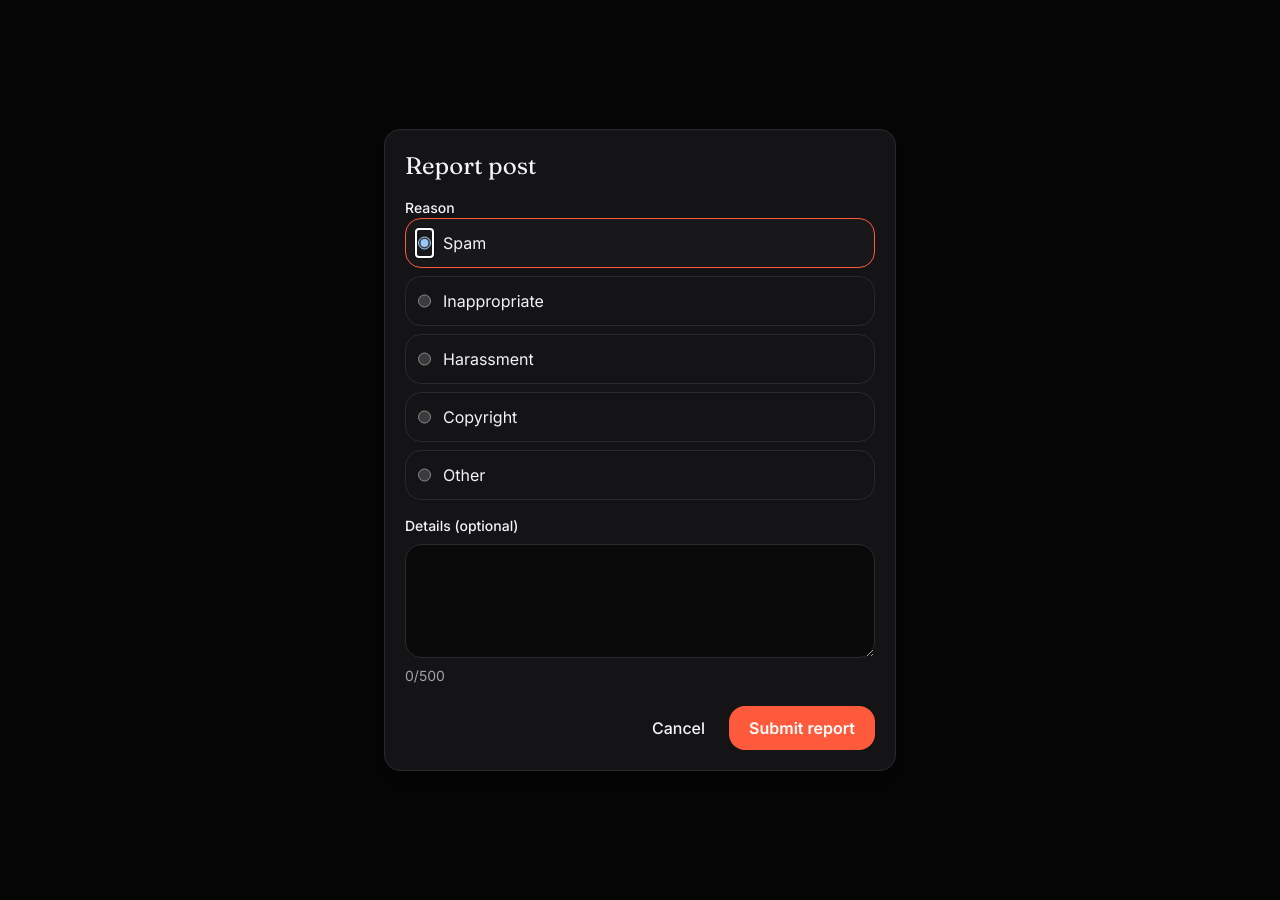
Test: ReportSheet › shows duplicate state
Click the button "Submit report": click(802, 728) [729,706,875,750]
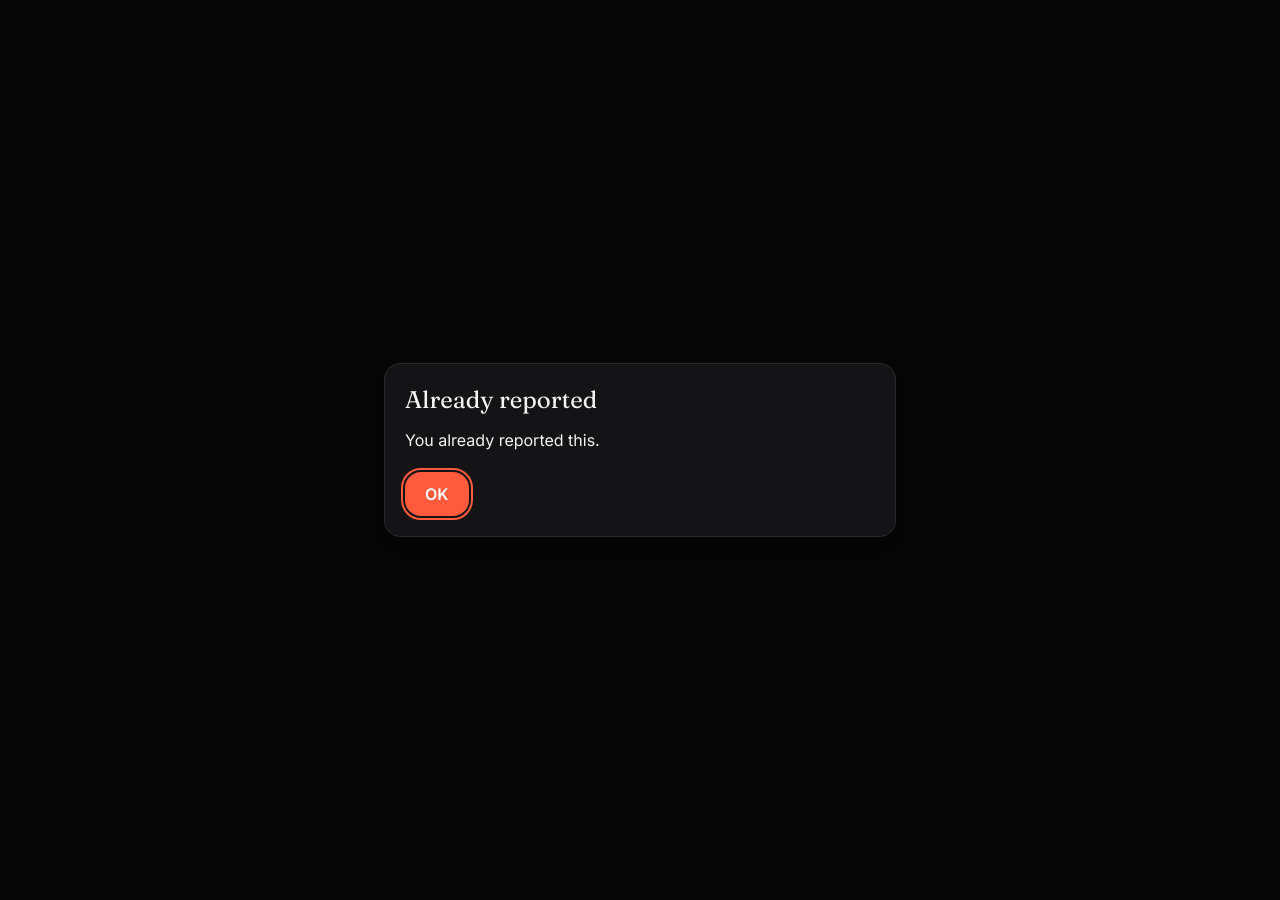
Check: the element with test id "report-sheet-duplicate" is shown, box [405,385,600,516]
